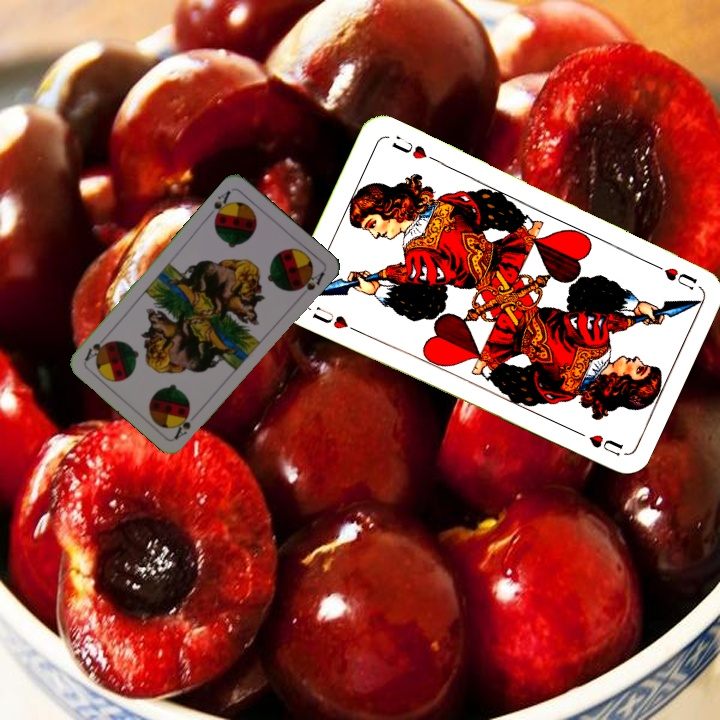HU: (645, 257, 700, 293), (308, 302, 361, 335)
SA: (204, 186, 234, 224), (170, 408, 201, 442)
